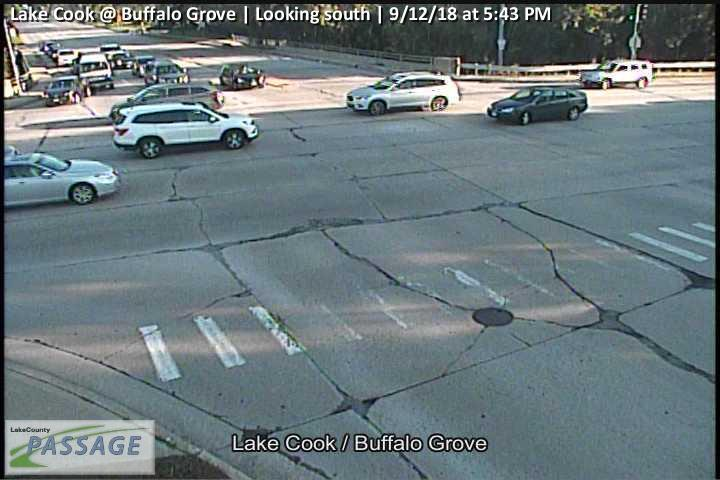SUV: (113, 102, 259, 159), (348, 71, 461, 116), (129, 81, 223, 112), (583, 58, 653, 90), (145, 60, 190, 86), (44, 76, 83, 105), (134, 54, 157, 77), (52, 49, 74, 66), (101, 43, 120, 61)
Sedan: (5, 146, 118, 208), (488, 86, 588, 125), (221, 63, 267, 90), (111, 52, 133, 68)
Truck: (71, 46, 113, 89)
